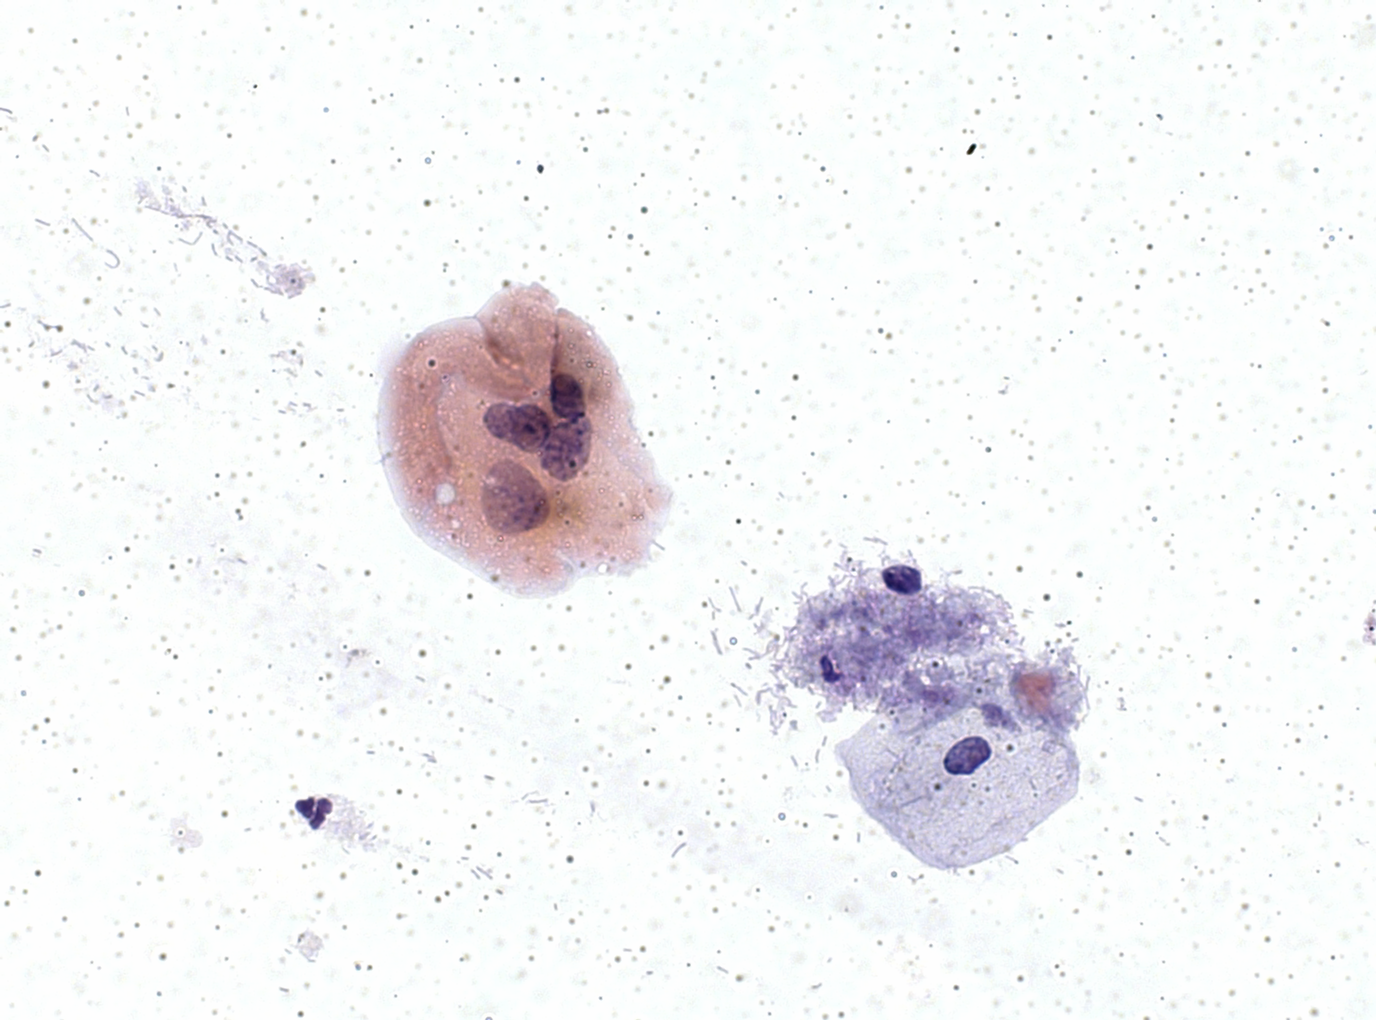Abnormal_Nucleus: (480, 457, 551, 539), (480, 397, 549, 453), (541, 418, 594, 481)
Normal_Nucleus: (936, 729, 996, 783), (877, 559, 926, 604), (548, 371, 590, 422)
